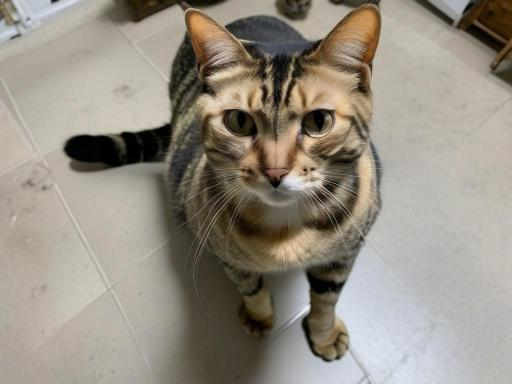cat_sitting: (65, 0, 382, 360)
